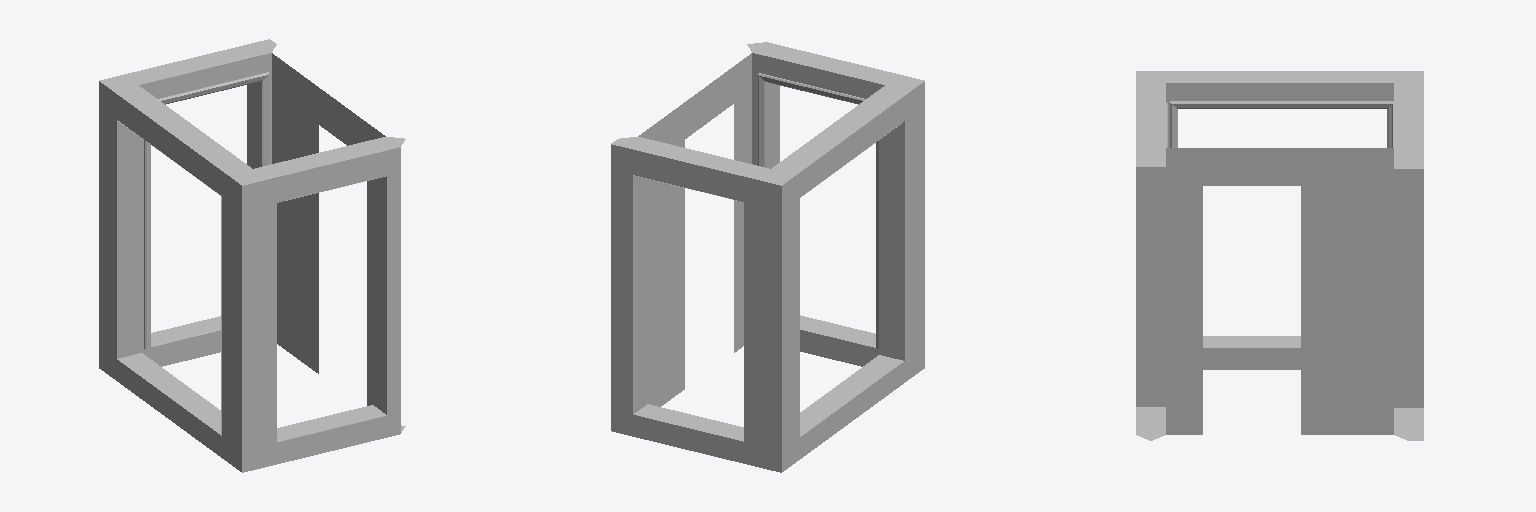
The model's file is Balcony-3168w.obj.
3 renders of one model, left to right at view 1: azimuth 30°, elevation 25°; view 2: azimuth 150°, elevation 25°; view 3: azimuth 270°, elevation 25°, orthographic.
Bounding box in the file's own units: 1.62 × 2.6 × 2.36.